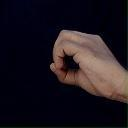hand: (49, 28, 127, 105)
